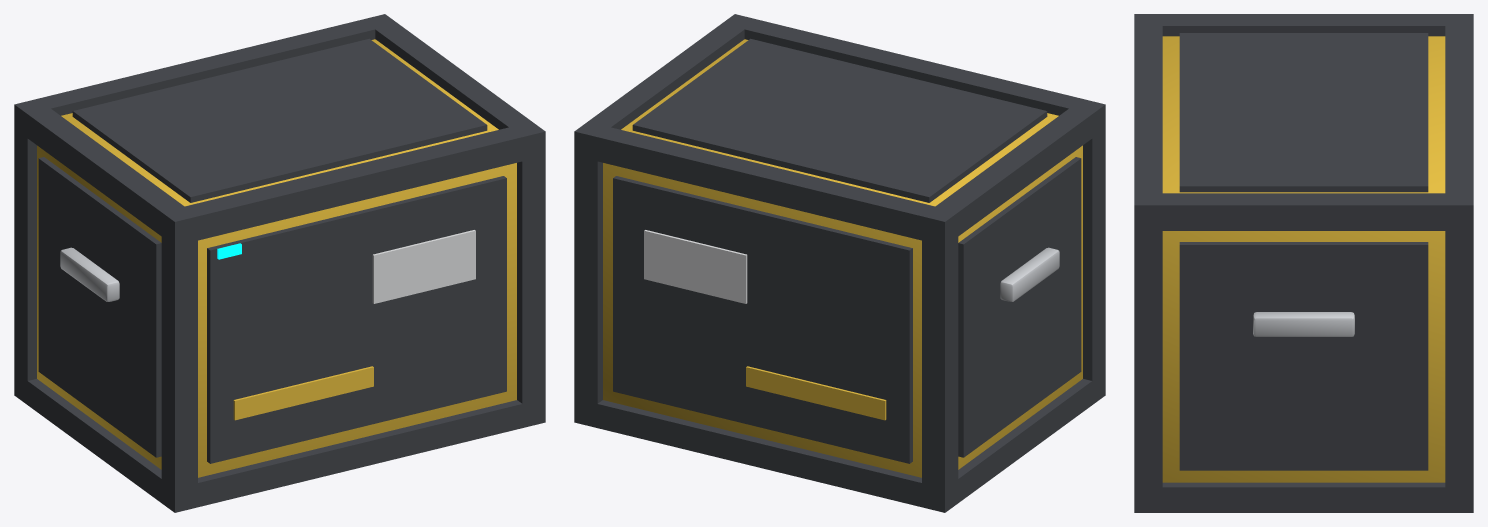
File: FV_Prop_Crate.fbx
3 renders of one model, left to right at view 1: azimuth 30°, elevation 25°; view 2: azimuth 150°, elevation 25°; view 3: azimuth 270°, elevation 25°, orthographic. The views are drawn at different scales.
Parts seen in each view (by area): view 1: Prop_Crate; view 2: Prop_Crate; view 3: Prop_Crate.
Boxes of the visible parts, box(x1,y1,x2,y2) form: Prop_Crate: box(14, 14, 545, 512); Prop_Crate: box(574, 14, 1105, 512); Prop_Crate: box(1134, 14, 1473, 512).
Bounding box in the file's own units: 0.85 × 0.6 × 0.6.
